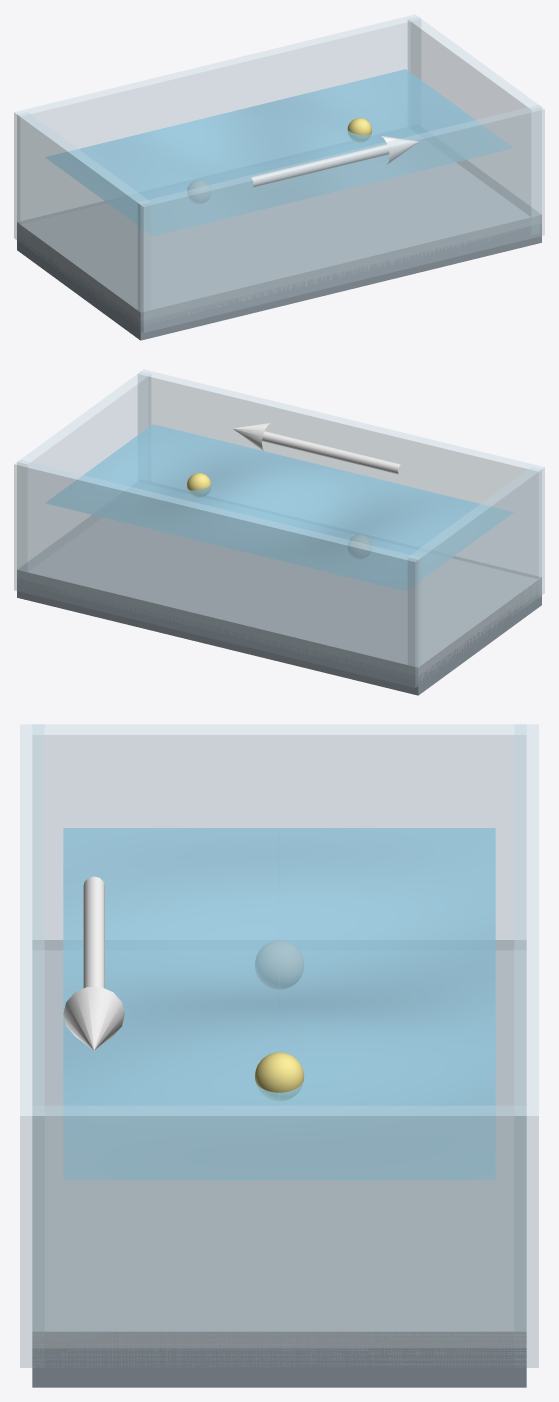
Rendered from wave-tank.glb.
The picture shows the model from 3 angles, top to bottom: view 1: azimuth 30°, elevation 25°; view 2: azimuth 150°, elevation 25°; view 3: azimuth 270°, elevation 25°; orthographic projection. The views are drawn at different scales.
Visible parts, largest first — view 1: tank_wall_r, tank_base, water_surface, tank_wall_l, tank_end_l, tank_end_r, tank_frame, wavelength_span, wave_crest_marker; view 2: tank_wall_l, tank_base, water_surface, tank_wall_r, tank_end_l, tank_end_r, tank_frame, wavelength_span, wave_crest_marker; view 3: tank_base, water_surface, tank_end_r, tank_end_l, tank_frame, tank_wall_l, tank_wall_r, wavelength_span, wave_crest_marker, wave_trough_marker.
Boxes of the visible parts, <box> form: tank_wall_r: <box>138,105,544,332</box>; tank_base: <box>17,129,541,325</box>; water_surface: <box>45,69,512,235</box>; tank_wall_l: <box>14,14,420,239</box>; tank_end_l: <box>17,112,150,324</box>; tank_end_r: <box>408,17,541,234</box>; tank_frame: <box>17,223,541,340</box>; wavelength_span: <box>250,135,418,187</box>; wave_crest_marker: <box>347,118,371,142</box>; tank_wall_l: <box>14,460,420,687</box>; tank_base: <box>17,484,541,680</box>; water_surface: <box>46,424,513,590</box>; tank_wall_r: <box>138,369,544,596</box>; tank_end_l: <box>408,467,541,682</box>; tank_end_r: <box>17,372,150,571</box>; tank_frame: <box>17,578,541,695</box>; wavelength_span: <box>232,423,401,474</box>; wave_crest_marker: <box>187,473,211,497</box>; tank_base: <box>32,940,526,1359</box>; water_surface: <box>63,828,495,1180</box>; tank_end_r: <box>32,1106,526,1367</box>; tank_end_l: <box>32,724,526,949</box>; tank_frame: <box>32,1348,526,1387</box>; tank_wall_l: <box>514,724,538,1367</box>; tank_wall_r: <box>20,724,44,1367</box>; wavelength_span: <box>63,876,124,1050</box>; wave_crest_marker: <box>254,1052,304,1101</box>; wave_trough_marker: <box>255,940,303,989</box>.
Bounding box in the file's own units: 1.68 × 0.543 × 0.9405.
